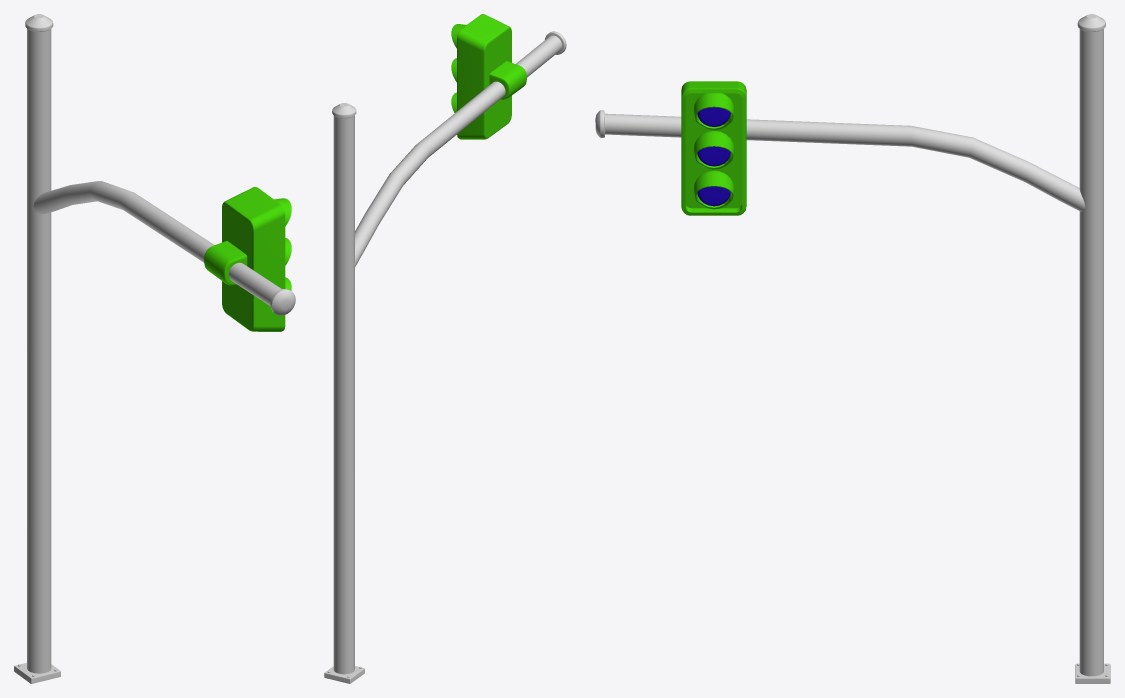
Rendered from TrafficLight.fbx.
3 renders of one model, left to right at view 1: azimuth 30°, elevation 25°; view 2: azimuth 150°, elevation 25°; view 3: azimuth 270°, elevation 25°, orthographic. The views are drawn at different scales.
Visible parts, largest first — view 1: TrafficPole, TrafficSignal; view 2: TrafficPole, TrafficSignal; view 3: TrafficPole, TrafficSignal.
Boxes of the visible parts, x1,y1,x2,y2 form: TrafficPole: (14,14,295,683); TrafficSignal: (204,187,291,331); TrafficPole: (324,31,566,683); TrafficSignal: (451,14,526,139); TrafficPole: (595,14,1110,683); TrafficSignal: (681,81,746,215).
Bounding box in the file's own units: 52.66 × 431 × 304.
